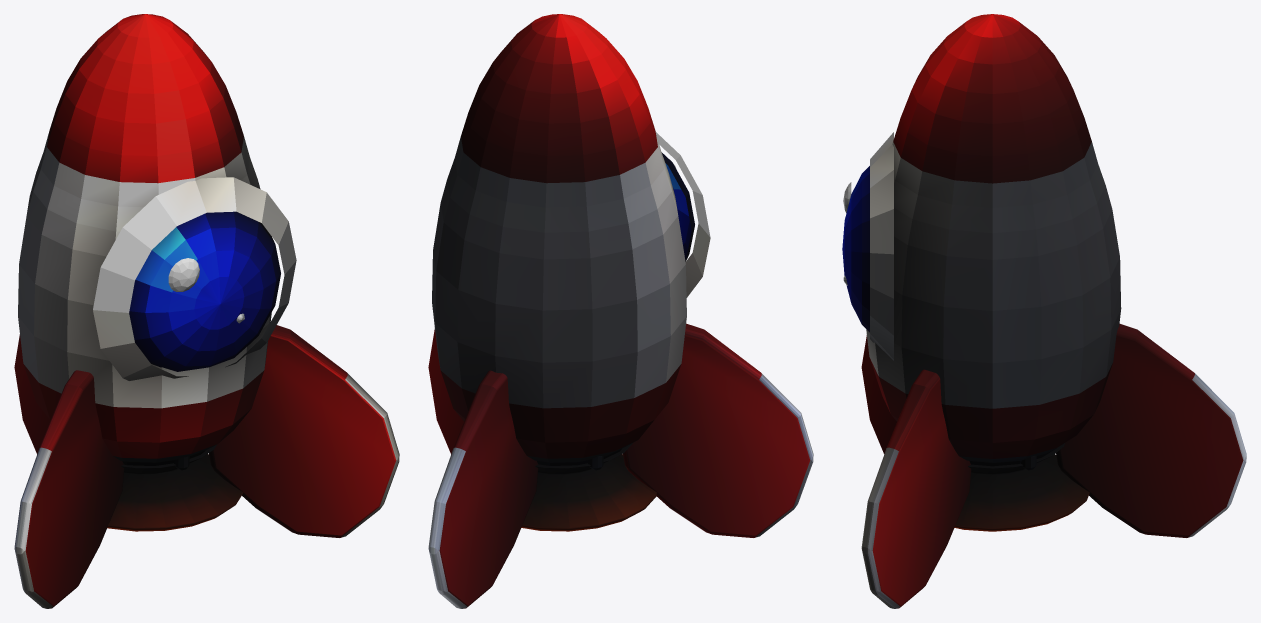
Rendered from HeroRocket.fbx.
3 views of the same model, side by side, from view 1: azimuth 30°, elevation 25°; view 2: azimuth 150°, elevation 25°; view 3: azimuth 270°, elevation 25° (orthographic).
Parts seen in each view (by area): view 1: HeroRocket; view 2: HeroRocket; view 3: HeroRocket.
Boxes of the visible parts, box(x1,y1,x2,y2) form: HeroRocket: box(14, 14, 399, 608); HeroRocket: box(428, 14, 813, 608); HeroRocket: box(842, 14, 1246, 608).
Size of the model in its own units: 201 by 262 by 184.
